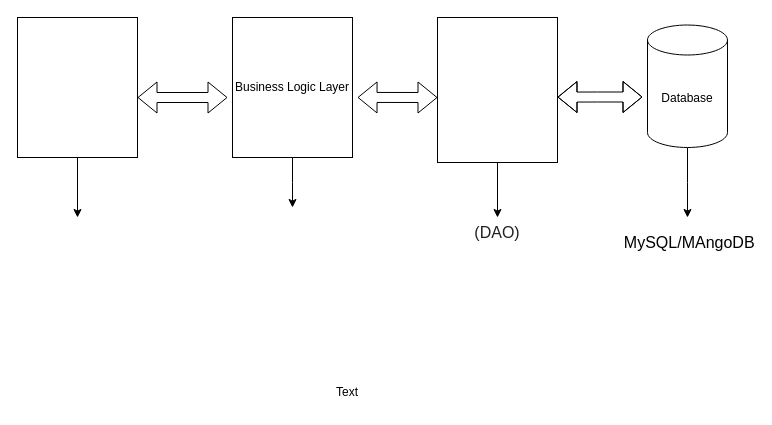
This 772x425 diagram has some shape labels left out. Here are the shapes that lost their labels. From the top down, the centre of each, then its label:
At point (77, 87): "Presentation Layer".
At point (497, 89): "Data Acces layer".
